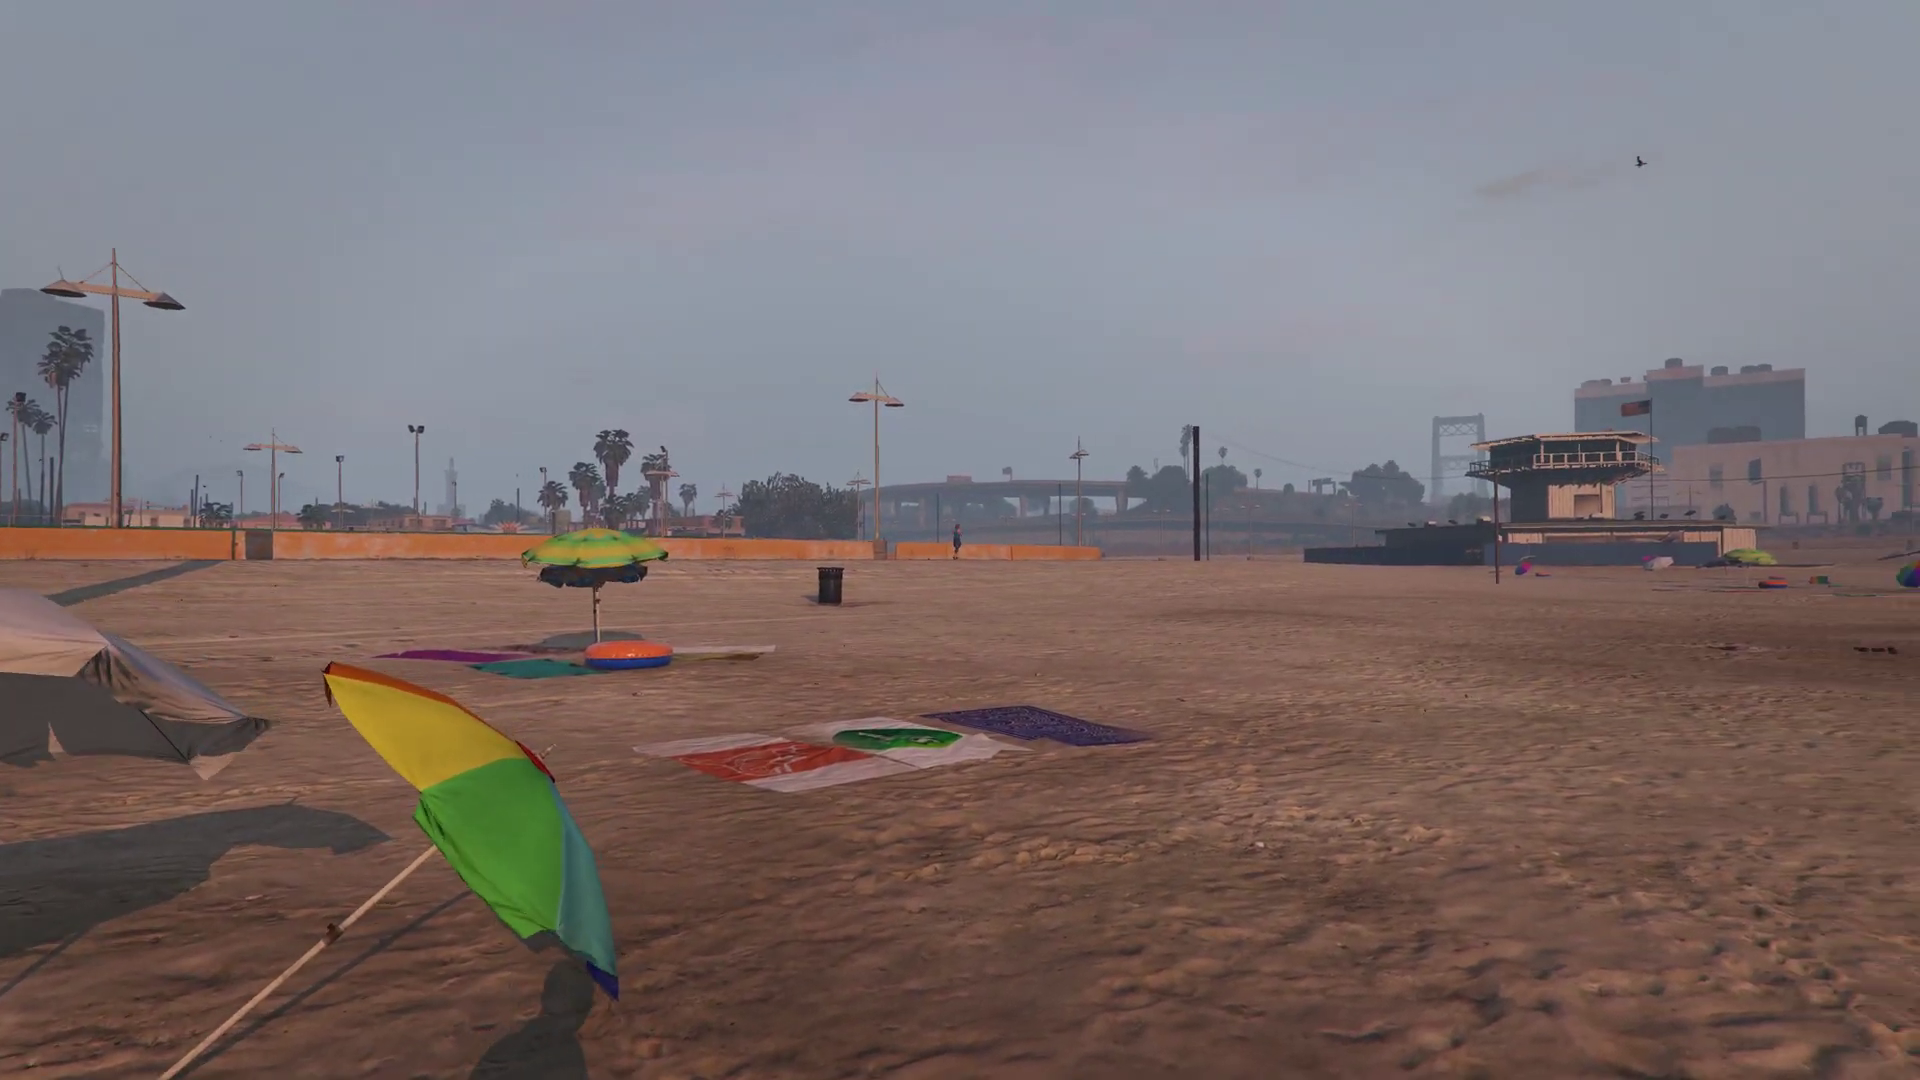person: (951, 523, 964, 558)
